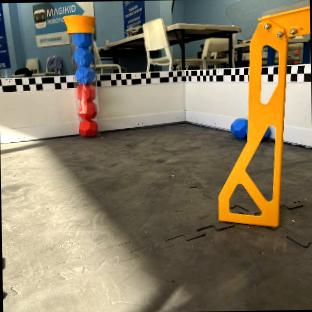Goal: (219, 3, 309, 226)
V5_BLUE: (71, 30, 95, 84), (230, 118, 247, 138)
V5_RED: (77, 83, 96, 118), (78, 119, 97, 136)
